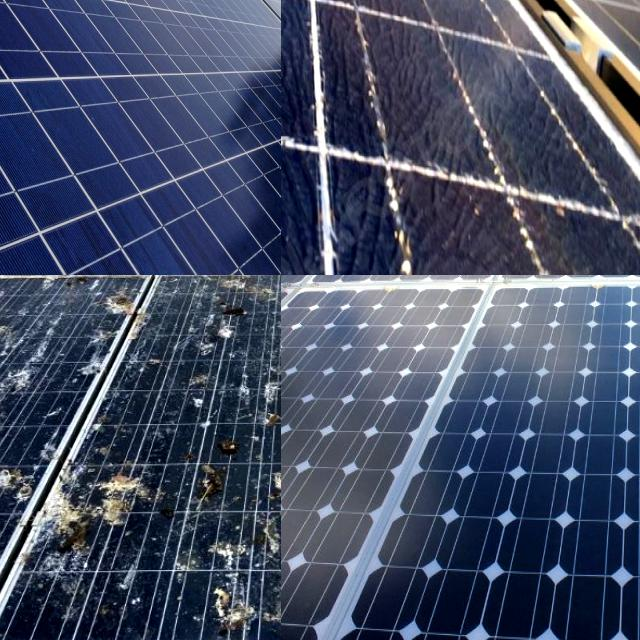bird: (36, 448, 142, 564), (172, 421, 250, 509), (184, 574, 281, 640), (72, 278, 152, 351), (0, 303, 33, 410), (246, 275, 281, 338), (0, 455, 29, 523)
crack: (363, 275, 640, 640), (281, 278, 501, 640), (299, 275, 576, 357), (496, 275, 640, 366)
hotspot: (281, 159, 296, 275)
panel: (52, 0, 181, 59), (208, 0, 281, 48), (0, 0, 54, 46)
